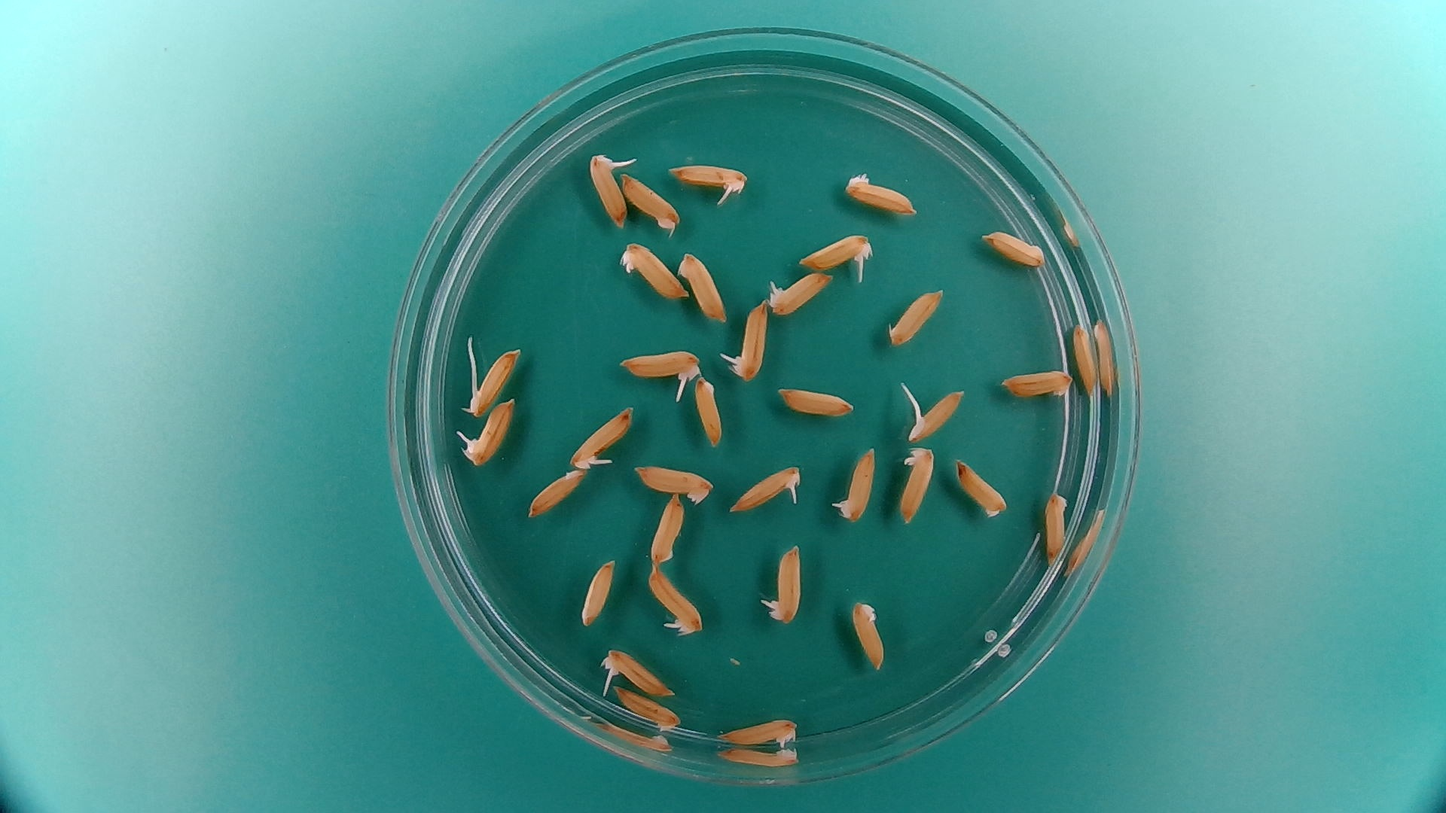no: (618, 238, 692, 301), (676, 247, 730, 325), (617, 170, 682, 233), (629, 459, 717, 504), (841, 168, 920, 216), (952, 454, 1010, 519), (524, 464, 590, 521), (999, 361, 1076, 406), (886, 286, 942, 347), (577, 553, 619, 630), (715, 714, 802, 751), (775, 382, 857, 420), (848, 596, 888, 673), (646, 492, 687, 566), (612, 687, 680, 730), (980, 226, 1048, 269), (692, 373, 724, 450), (1070, 320, 1100, 398), (1042, 489, 1070, 568)
yes: (565, 400, 636, 472), (613, 344, 704, 395), (645, 563, 706, 637), (462, 343, 522, 418), (725, 461, 805, 517), (721, 297, 771, 382), (464, 395, 518, 469), (794, 229, 877, 273), (598, 650, 673, 698), (905, 386, 968, 443), (895, 443, 937, 525), (766, 269, 837, 317), (767, 540, 806, 626), (587, 152, 627, 228), (837, 447, 875, 526), (667, 163, 748, 197)
